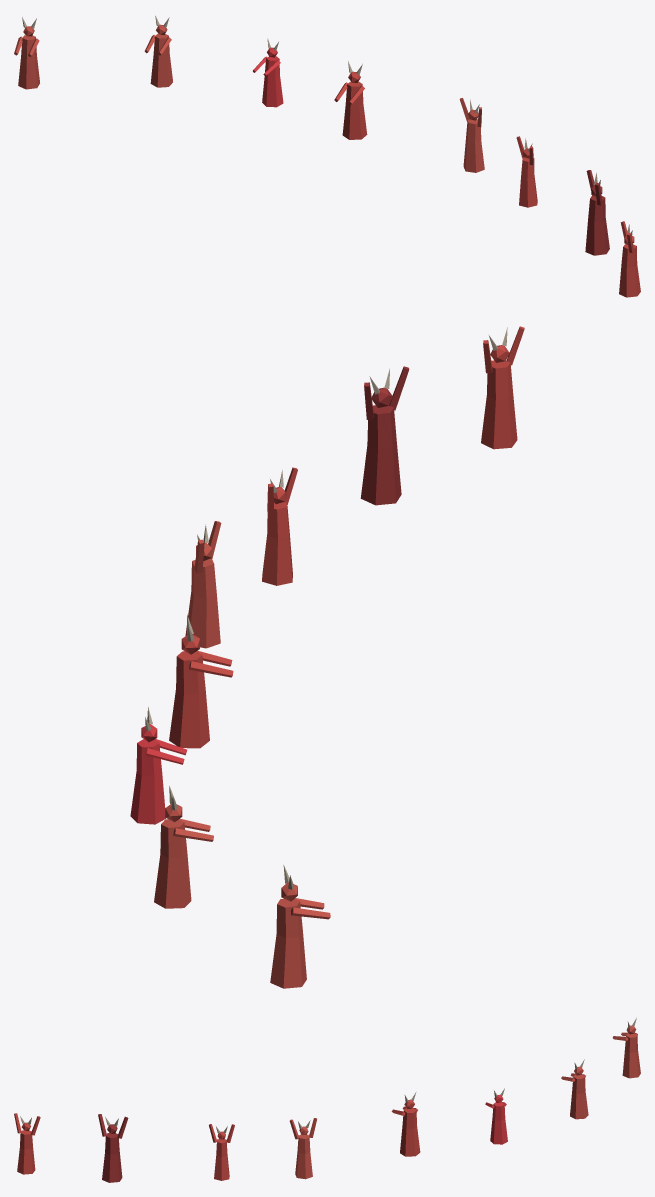
File: Stands_4_1_1.obj
The picture shows the model from 3 angles, top to bottom: view 1: azimuth 30°, elevation 25°; view 2: azimuth 150°, elevation 25°; view 3: azimuth 270°, elevation 25°; orthographic projection. The views are drawn at different scales.
Visible parts, largest first — view 1: Stands_4_1_1; view 2: Stands_4_1_1; view 3: Stands_4_1_1.
Boxes of the visible parts, x1=… form: Stands_4_1_1: x1=14, y1=15, x2=640, y2=297; Stands_4_1_1: x1=130, y1=326, x2=524, y2=988; Stands_4_1_1: x1=14, y1=1017, x2=640, y2=1182.
Bounding box in the file's own units: 14.39 × 3.59 × 32.67.
Materials: 1 (1 with a texture image).
